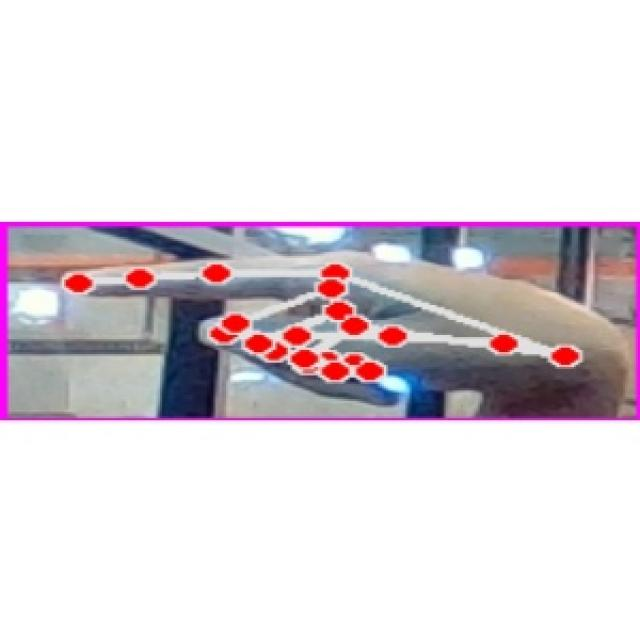G: (37, 236, 631, 404)
